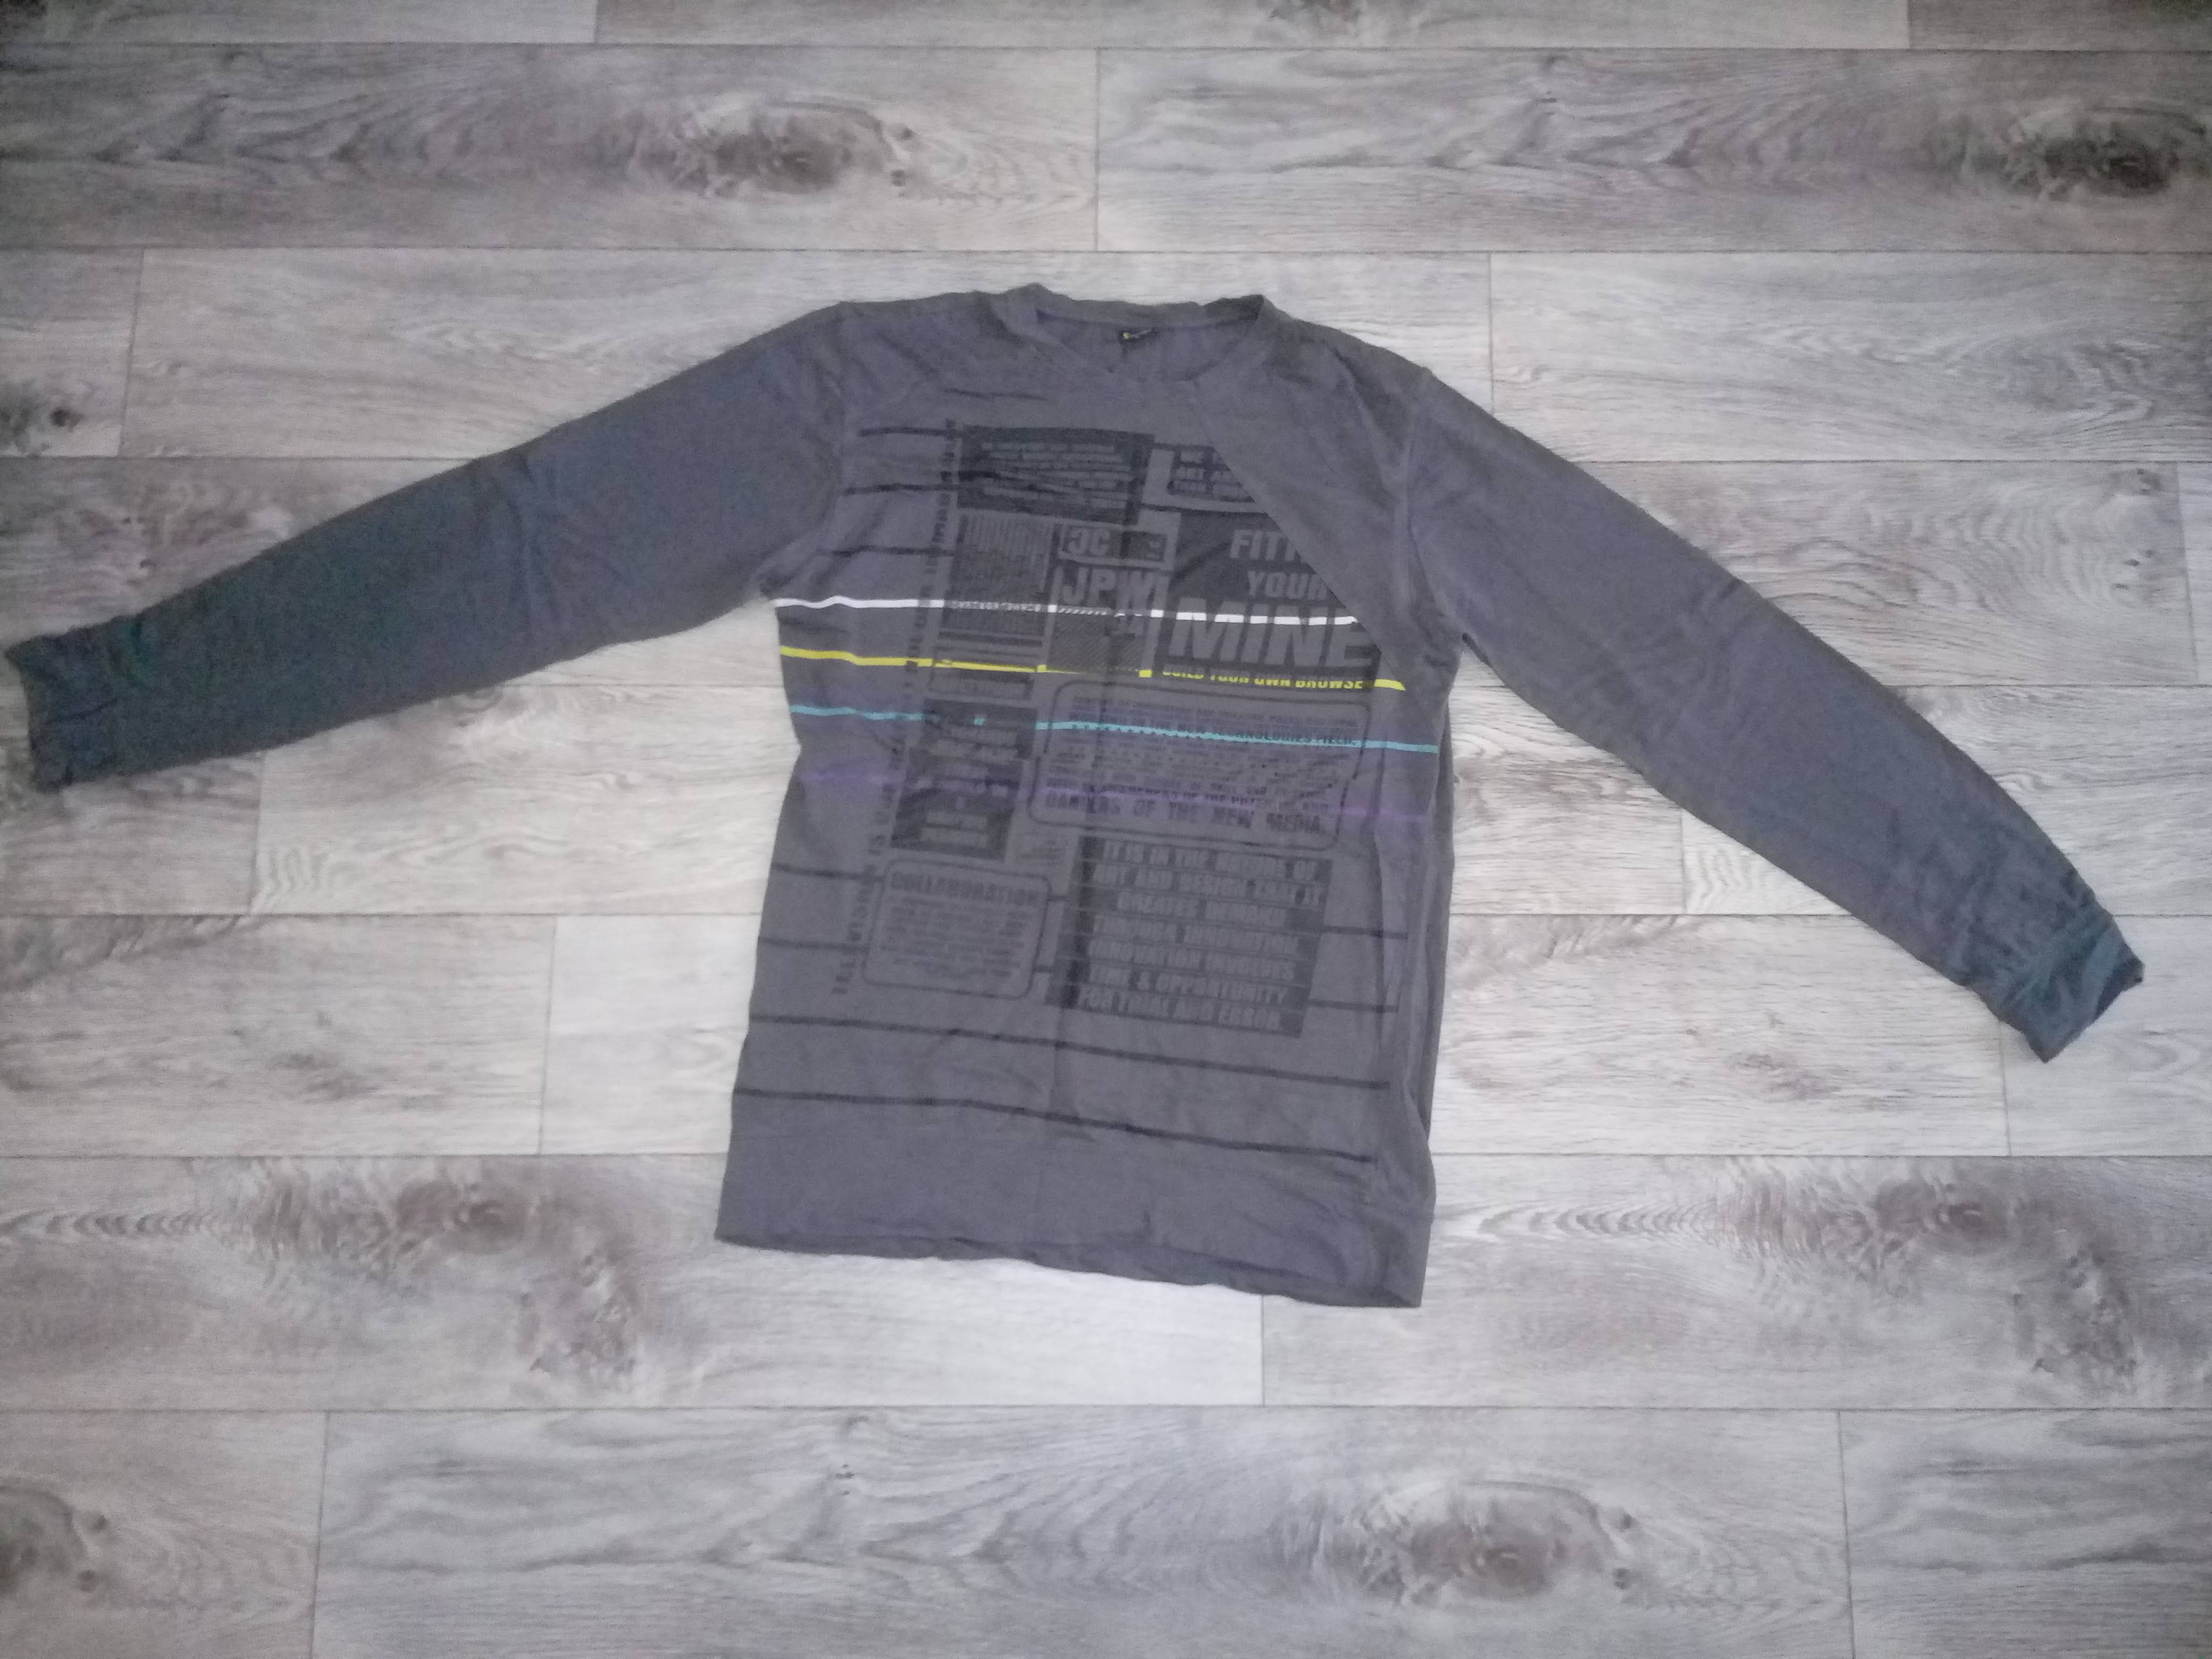clothes: (28, 279, 2142, 1323)
